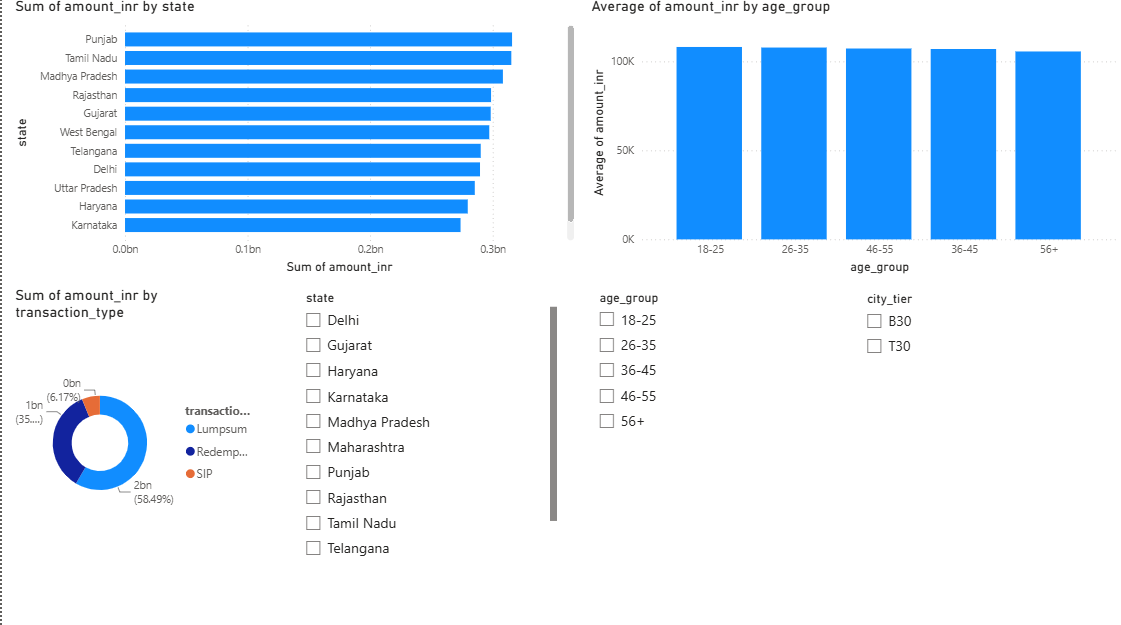

The dashboard page shown, as its layout file describes it:
{"tool":"powerbi","page":{"name":"t Investor Analytics","canvas":[1280,720],"ordinal":2},"visuals":[{"type":"clusteredBarChart","fields":{"Category":["clean_investor_transactions.state"],"Y":["Sum(clean_investor_transactions.amount_inr)"]},"box":[9.6,0,649.1,321.1],"z":0},{"type":"donutChart","fields":{"Category":["clean_investor_transactions.transaction_type"],"Y":["Sum(clean_investor_transactions.amount_inr)"]},"box":[9.6,330.7,288.2,321.1],"z":1000},{"type":"clusteredColumnChart","fields":{"Category":["clean_investor_transactions.age_group"],"Y":["Avg(clean_investor_transactions.amount_inr)"]},"box":[669,0,611,321],"z":2000},{"type":"slicer","fields":{"Values":["clean_investor_transactions.state"]},"box":[334.8,330.7,304.6,321.1],"z":3000},{"type":"slicer","fields":{"Values":["clean_investor_transactions.age_group"]},"box":[669.6,330.7,304.6,321.1],"z":4000},{"type":"slicer","fields":{"Values":["clean_investor_transactions.city_tier"]},"box":[975,331,305,321],"z":5000}]}

Visuals, with their boxes in screenshot pixels (x1, y1, x2, y2), scaled from the page's 1280x720 canvas onto the 1121x625 screenshot:
clusteredBarChart - clean_investor_transactions.state x Sum(clean_investor_transactions.amount_inr): [left=8, top=0, right=577, bottom=279]
donutChart - clean_investor_transactions.transaction_type x Sum(clean_investor_transactions.amount_inr): [left=8, top=287, right=261, bottom=566]
clusteredColumnChart - clean_investor_transactions.age_group x Avg(clean_investor_transactions.amount_inr): [left=586, top=0, right=1120, bottom=279]
slicer - clean_investor_transactions.state: [left=293, top=287, right=560, bottom=566]
slicer - clean_investor_transactions.age_group: [left=586, top=287, right=853, bottom=566]
slicer - clean_investor_transactions.city_tier: [left=854, top=287, right=1120, bottom=566]
